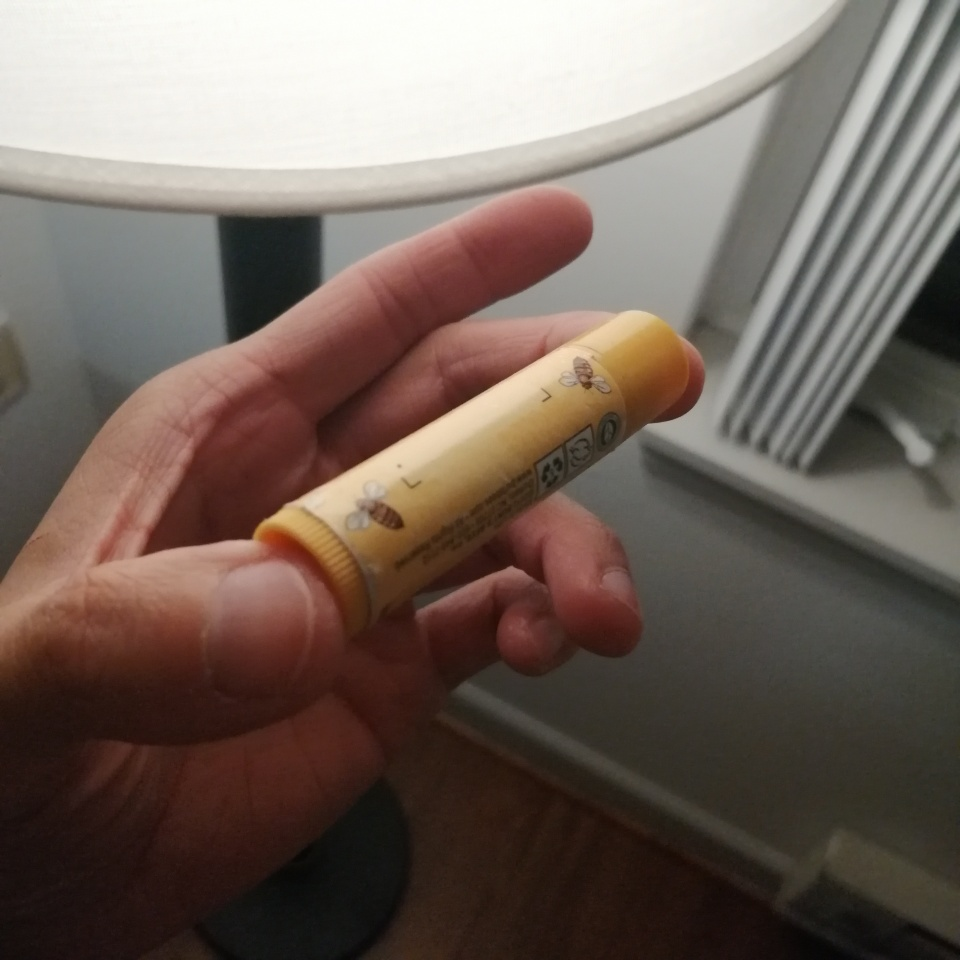chapstick: (253, 308, 689, 641)
